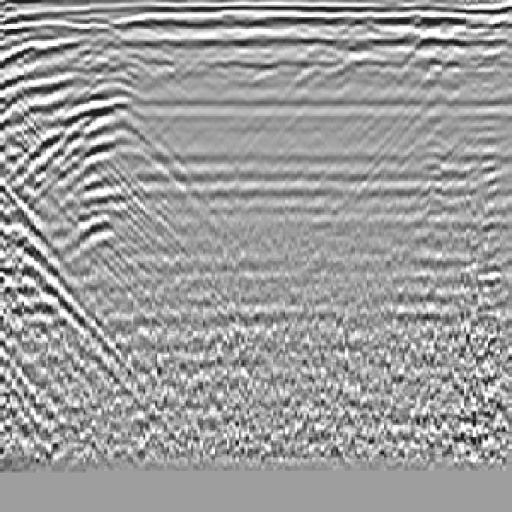metalic: (6, 47, 189, 240)
